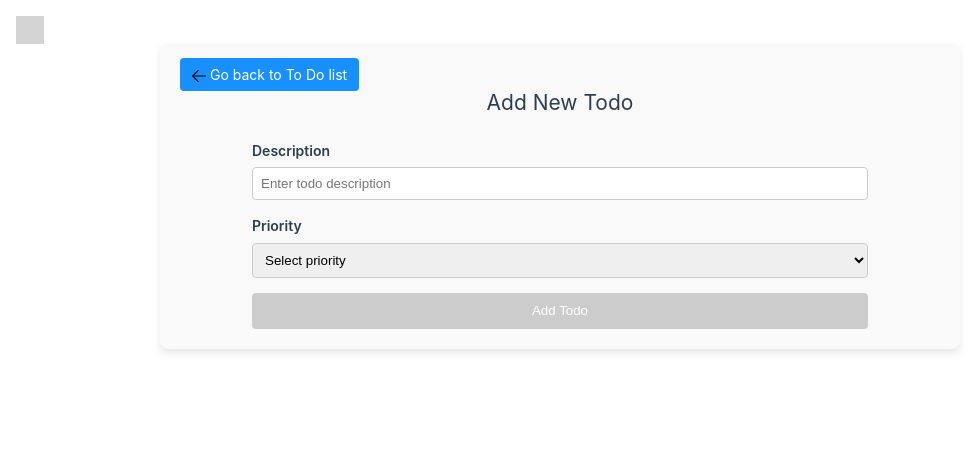
Test: Add Edit Todo page tests › fill the form, submit the todo, and check that the todo is added on the list page
The image size is (978, 449).
In the field with test id "todo-description-input": (560, 184) [252,167,868,200], type "Test new todo description from fixture"
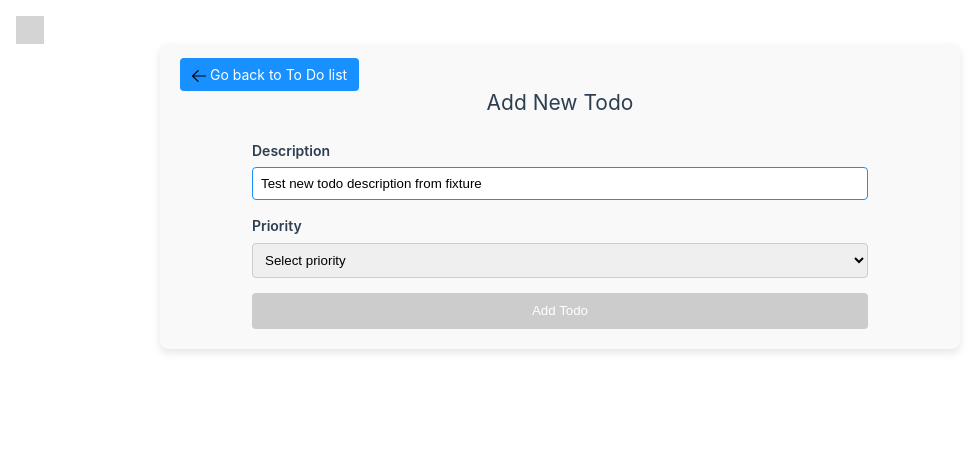
Select "1" in the dropdown with test id "todo-priority-select": (560, 261) [252,243,868,278]
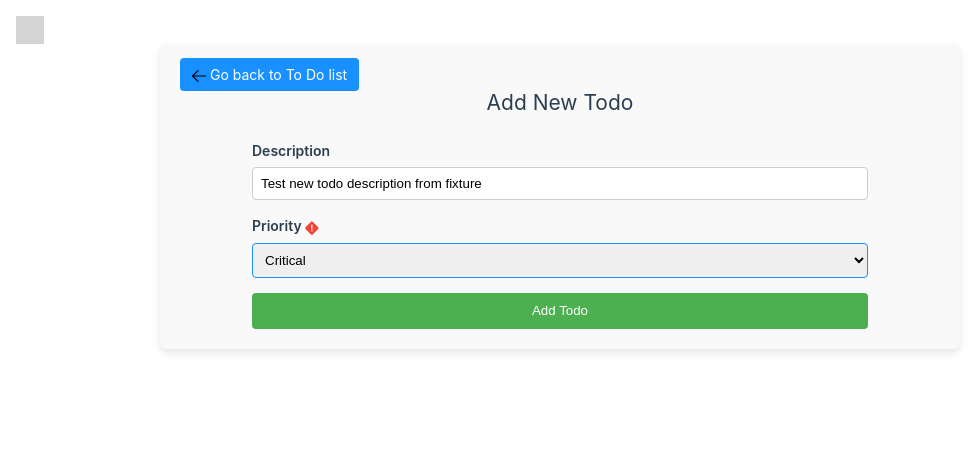
Click the button with test id "todo-submit-button": (560, 311) [252,293,868,329]
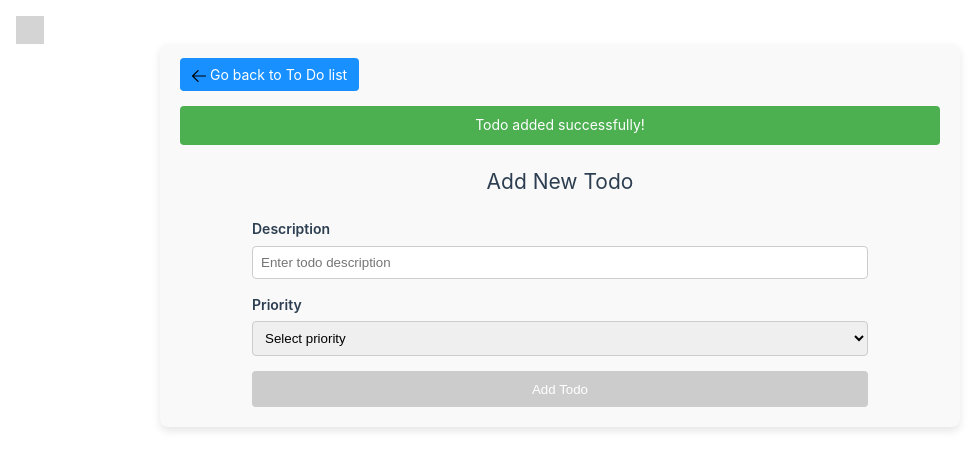
Result: the text "Todo added successfully!" is shown at [475,116,645,133]
Click the link with test id "go-to-list-page": (270, 75) [180,58,359,91]
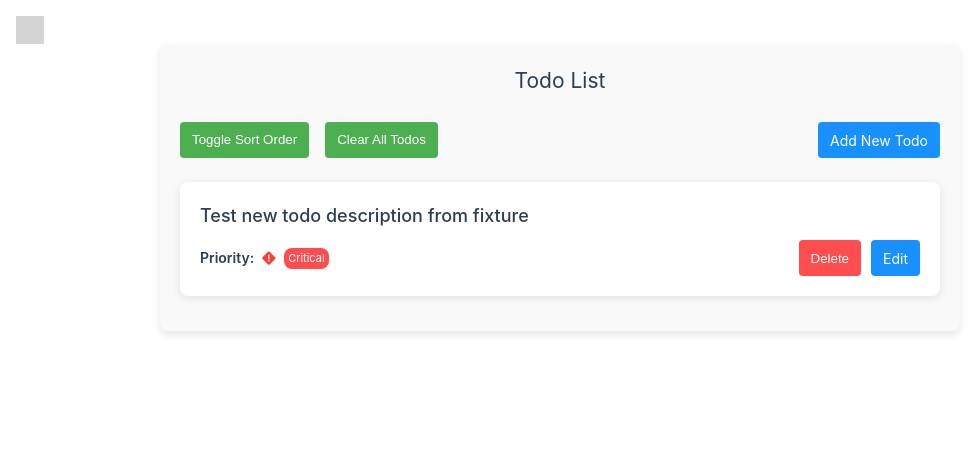
Result: the heading "Test new todo description from fixture" is shown at [200,205,529,226]
